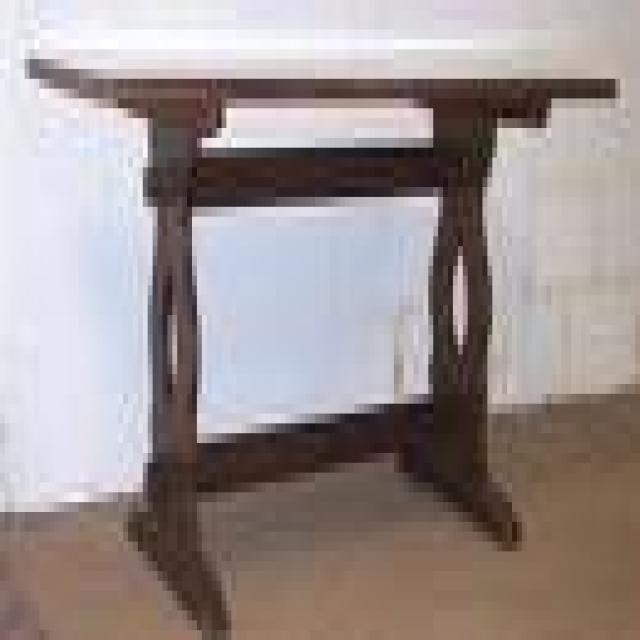table: (24, 47, 618, 640)
